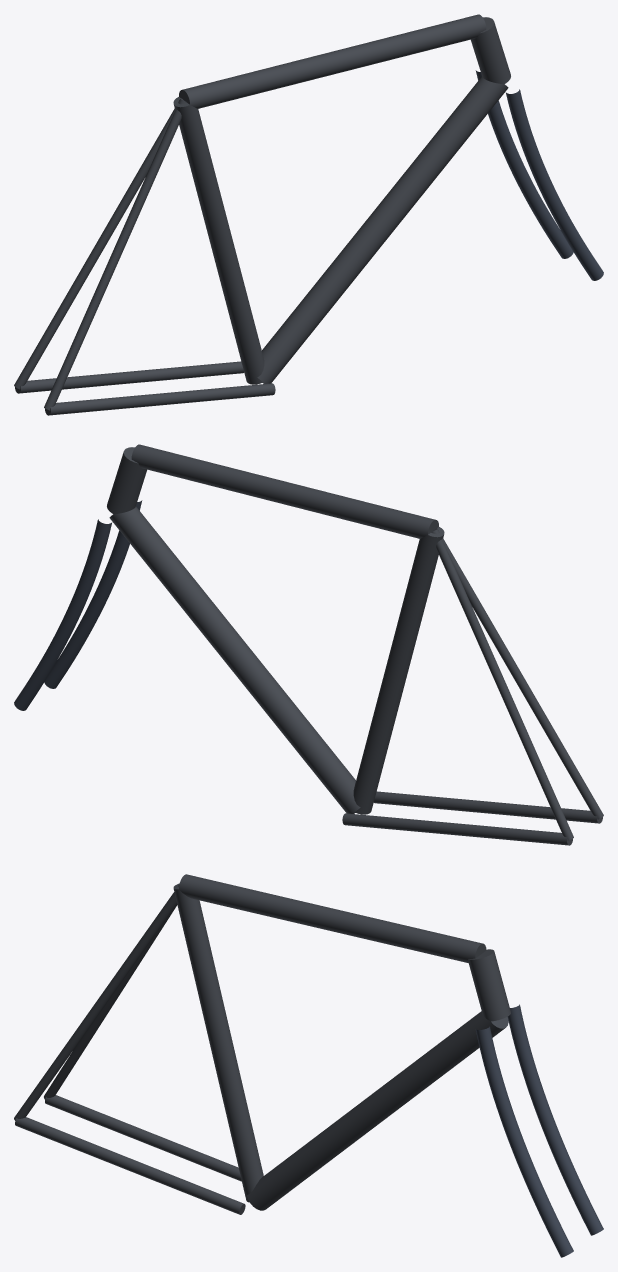
File: skream-magnum-xs.glb
3 renders of one model, top to bottom at view 1: azimuth 30°, elevation 25°; view 2: azimuth 150°, elevation 25°; view 3: azimuth 330°, elevation 25°, orthographic.
Visible parts, largest first — view 1: paint_down, paint_top, paint_seat, paint_seatstay_0.045, fork_0.045, paint_seatstay_-0.045, paint_chainstay_0.045, paint_chainstay_-0.045, fork_-0.045, paint_head; view 2: paint_down, paint_top, paint_seat, paint_seatstay_-0.045, fork_-0.045, paint_seatstay_0.045, paint_chainstay_-0.045, paint_chainstay_0.045, fork_0.045, paint_head; view 3: paint_down, paint_top, paint_seat, fork_0.045, fork_-0.045, paint_chainstay_0.045, paint_seatstay_0.045, paint_chainstay_-0.045, paint_head, paint_seatstay_-0.045.
Part boxes in pixels (x1,y1,x2,y2): paint_down: (257,76,508,383); paint_top: (179,14,486,108); paint_seat: (173,97,264,384); paint_seatstay_0.045: (44,99,186,410); fork_0.045: (505,89,603,280); paint_seatstay_-0.045: (14,98,183,389); paint_chainstay_0.045: (45,383,275,415); paint_chainstay_-0.045: (15,361,244,393); fork_-0.045: (475,70,573,258); paint_head: (471,17,510,83); paint_down: (109,506,360,813); paint_top: (131,444,438,538); paint_seat: (353,527,444,814); paint_seatstay_-0.045: (431,529,573,840); fork_-0.045: (14,519,112,710); paint_seatstay_0.045: (434,528,603,819); paint_chainstay_-0.045: (342,813,572,845); paint_chainstay_0.045: (373,791,602,823); fork_0.045: (44,500,142,688); paint_head: (107,447,146,513); paint_down: (247,1011,508,1210); paint_top: (179,874,486,962); paint_seat: (173,883,263,1202); fork_0.045: (475,1026,573,1257); fork_-0.045: (507,1004,603,1235); paint_chainstay_0.045: (15,1117,245,1214); paint_seatstay_0.045: (14,885,179,1120); paint_chainstay_-0.045: (45,1095,241,1181); paint_head: (468,949,510,1021); paint_seatstay_-0.045: (44,904,177,1099).
Size of the model in its own units: 0.9673 by 0.5262 by 0.112.
